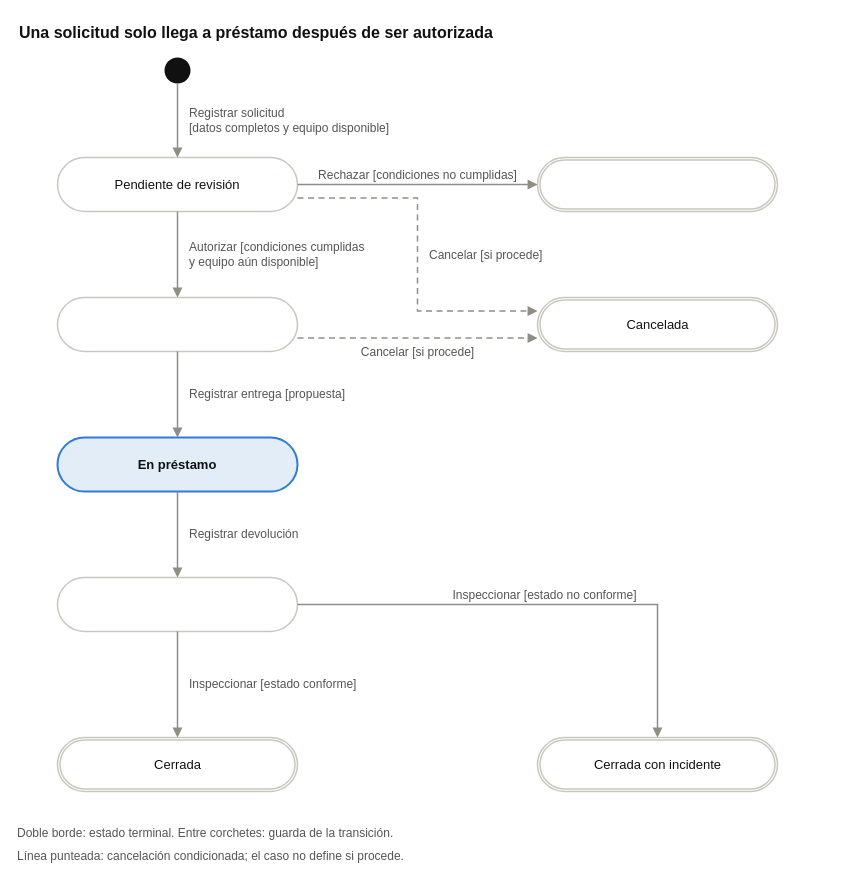
Some shapes in this 854 by 884 pixel diagram are drawn without their labels. Each missing label, with the centre of its shape:
"Autorizada" belongs at (x=177, y=324).
"Devuelta" belongs at (x=177, y=604).
"Rechazada" belongs at (x=657, y=184).
